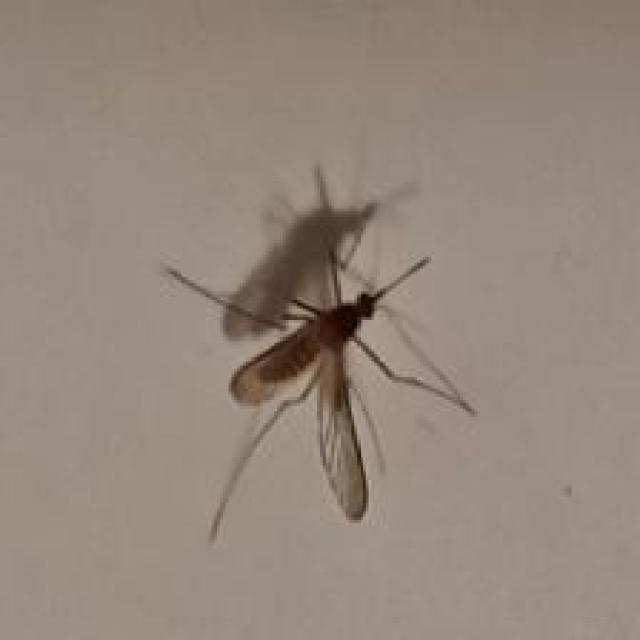Culex: (162, 157, 478, 543)
